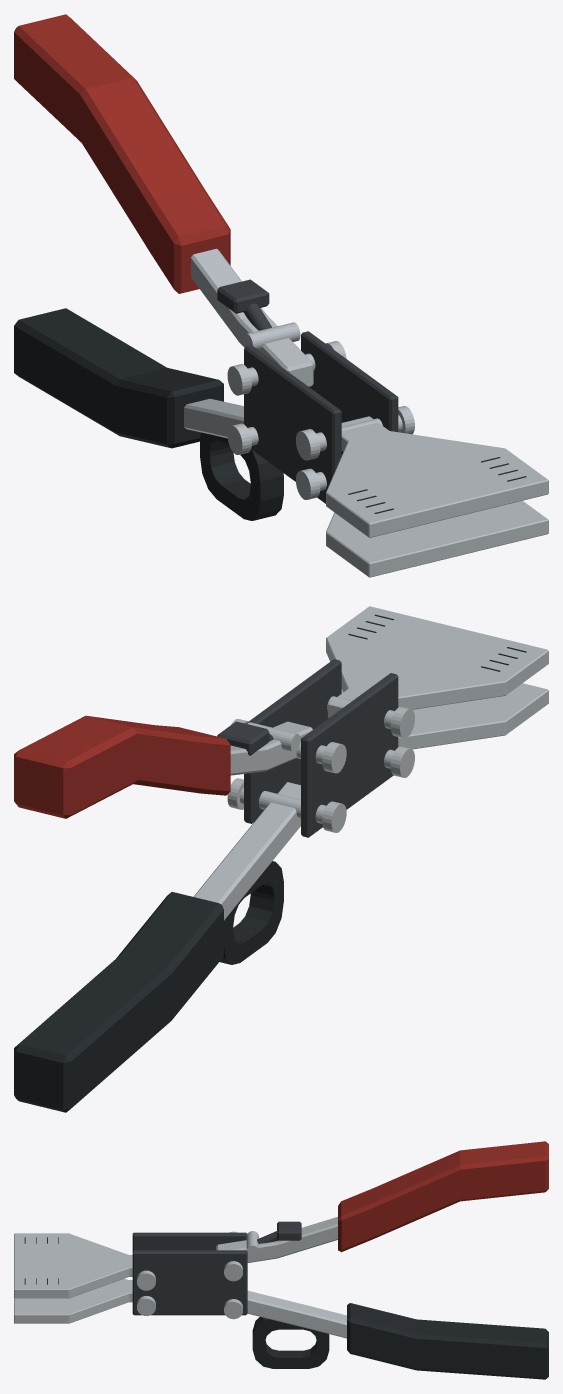
The model's file is full.glb.
The picture shows the model from 3 angles, top to bottom: view 1: azimuth 30°, elevation 25°; view 2: azimuth 150°, elevation 25°; view 3: azimuth 270°, elevation 25°; orthographic projection. The views are drawn at different scales.
Visible parts, largest first — view 1: Ergonomic raised upper grip, Upper broad jaw and shank, Ergonomic lower grip, Lower broad jaw and shank, Parallel link cheek -0.012, Lower finger stop oval opening, Parallel link cheek 0.012, Upper curved metal handle, Lower metal handle, Latch thumb tab, Upper neck latch pivot; view 2: Ergonomic lower grip, Ergonomic raised upper grip, Upper broad jaw and shank, Parallel link cheek -0.012, Lower broad jaw and shank, Lower metal handle, Parallel link cheek 0.012, Lower finger stop oval opening, Upper curved metal handle, Latch thumb tab, Compound transverse pivot 2, Rivet retaining disc (2, -0.02) (+3 smaller); view 3: Ergonomic raised upper grip, Ergonomic lower grip, Parallel link cheek 0.012, Upper broad jaw and shank, Lower broad jaw and shank, Lower metal handle, Lower finger stop oval opening, Upper curved metal handle, Parallel link cheek -0.012, Latch thumb tab, Rivet retaining disc (1, 0.02), Rivet retaining disc (2, 0.02) (+3 smaller).
Part boxes in pixels (<box>): Ergonomic raised upper grip: <box>14,14,230,293</box>; Upper broad jaw and shank: <box>326,416,548,537</box>; Ergonomic lower grip: <box>14,308,223,448</box>; Lower broad jaw and shank: <box>326,501,548,577</box>; Parallel link cheek -0.012: <box>244,345,341,503</box>; Lower finger stop oval opening: <box>200,432,283,520</box>; Parallel link cheek 0.012: <box>301,331,398,455</box>; Upper curved metal handle: <box>191,248,313,386</box>; Lower metal handle: <box>184,398,243,438</box>; Latch thumb tab: <box>217,279,269,313</box>; Upper neck latch pivot: <box>243,322,300,350</box>; Ergonomic lower grip: <box>14,892,223,1112</box>; Ergonomic raised upper grip: <box>14,715,230,818</box>; Upper broad jaw and shank: <box>326,606,548,717</box>; Parallel link cheek -0.012: <box>301,673,398,837</box>; Lower broad jaw and shank: <box>341,683,548,749</box>; Lower metal handle: <box>193,782,300,920</box>; Parallel link cheek 0.012: <box>244,659,341,823</box>; Lower finger stop oval opening: <box>219,861,283,964</box>; Upper curved metal handle: <box>230,721,312,775</box>; Latch thumb tab: <box>217,721,269,755</box>; Compound transverse pivot 2: <box>240,787,326,823</box>; Rivet retaining disc (2, -0.02): <box>322,801,346,832</box>; Ergonomic raised upper grip: <box>338,1141,548,1252</box>; Ergonomic lower grip: <box>347,1303,548,1379</box>; Parallel link cheek 0.012: <box>132,1250,247,1315</box>; Upper broad jaw and shank: <box>14,1233,132,1298</box>; Lower broad jaw and shank: <box>14,1278,132,1323</box>; Lower metal handle: <box>247,1290,346,1338</box>; Lower finger stop oval opening: <box>252,1317,329,1368</box>; Upper curved metal handle: <box>216,1217,337,1262</box>; Parallel link cheek -0.012: <box>132,1232,246,1250</box>; Latch thumb tab: <box>277,1221,301,1240</box>; Rivet retaining disc (1, 0.02): <box>137,1270,155,1290</box>; Rivet retaining disc (2, 0.02): <box>224,1299,242,1319</box>.
Bounding box in the file's own units: 0.0762 × 0.1416 × 0.307.
